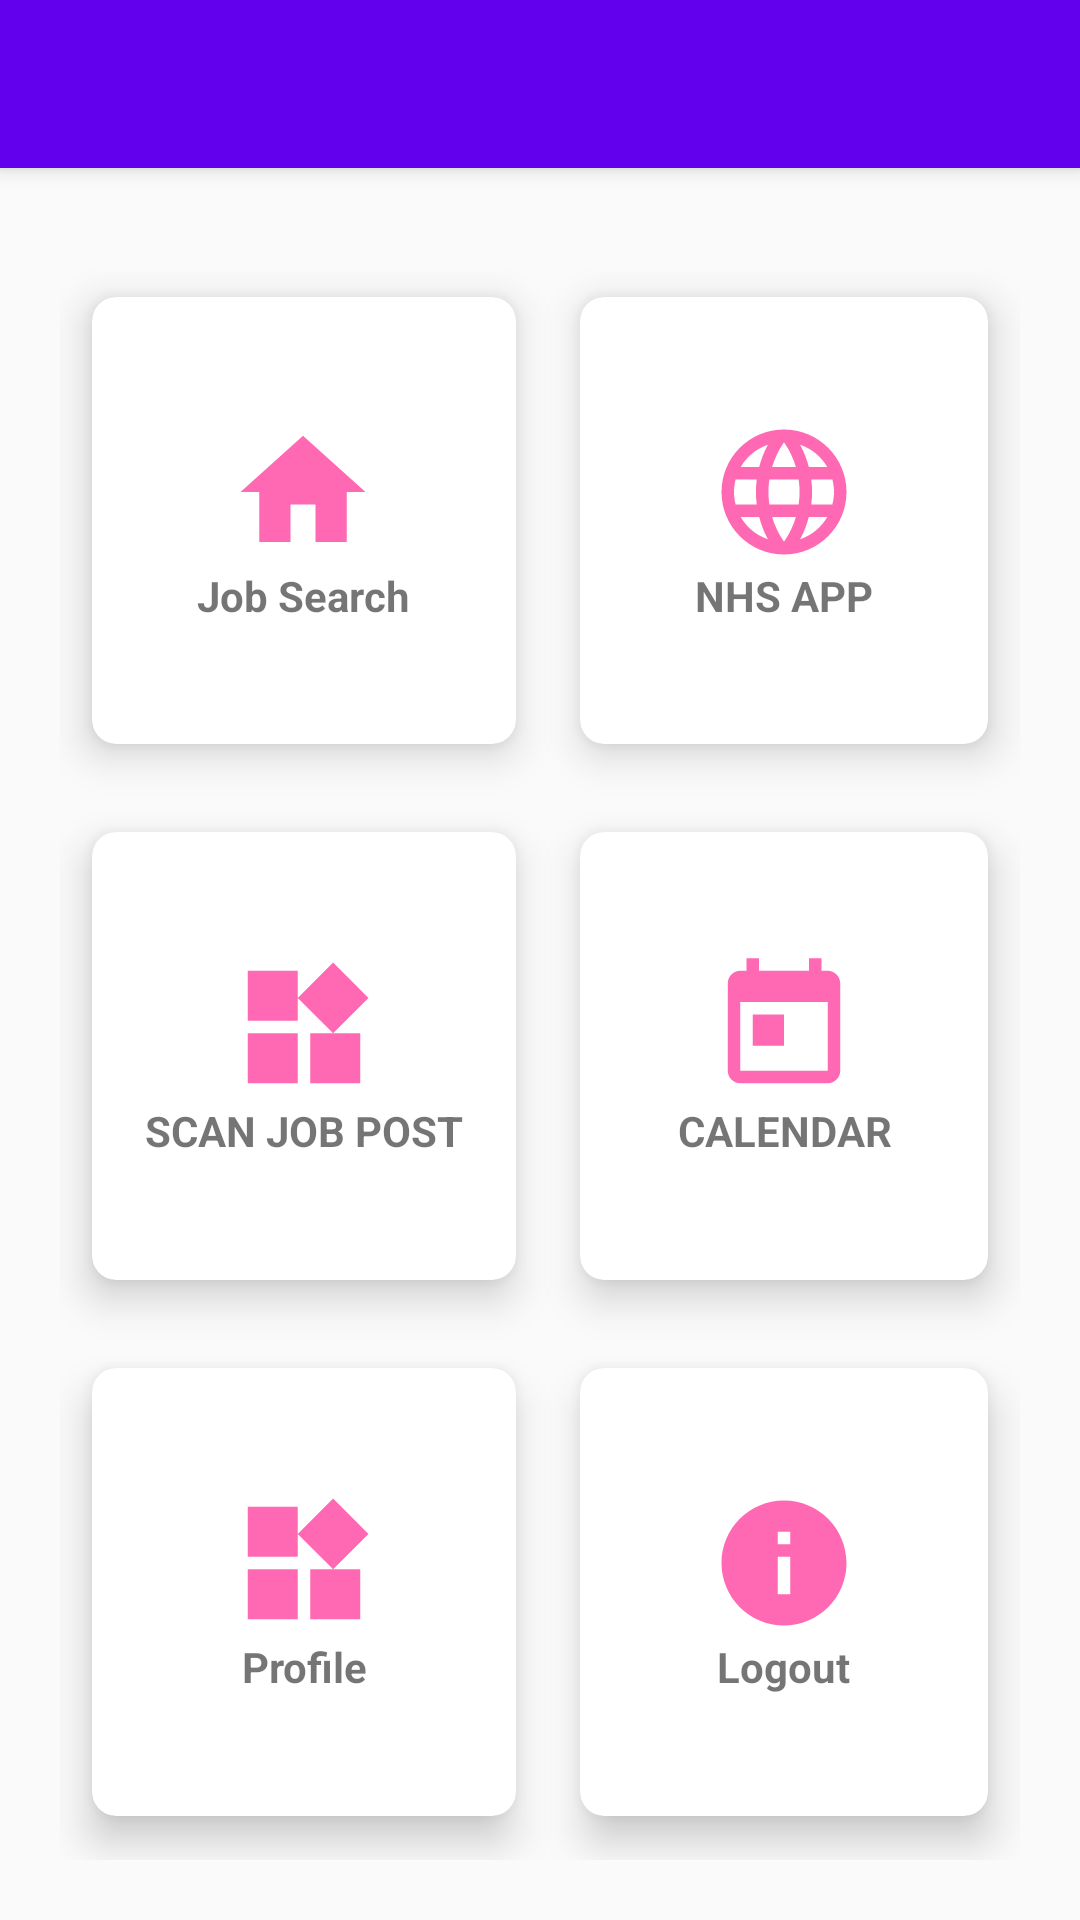

Icons on this 1080x1920 Android screen, each with its box as (x1, y1, x2, y2):
home: (241, 436, 365, 542)
info: (721, 1500, 847, 1626)
language: (721, 429, 847, 555)
widgets: (247, 962, 368, 1084), (247, 1498, 368, 1620)
